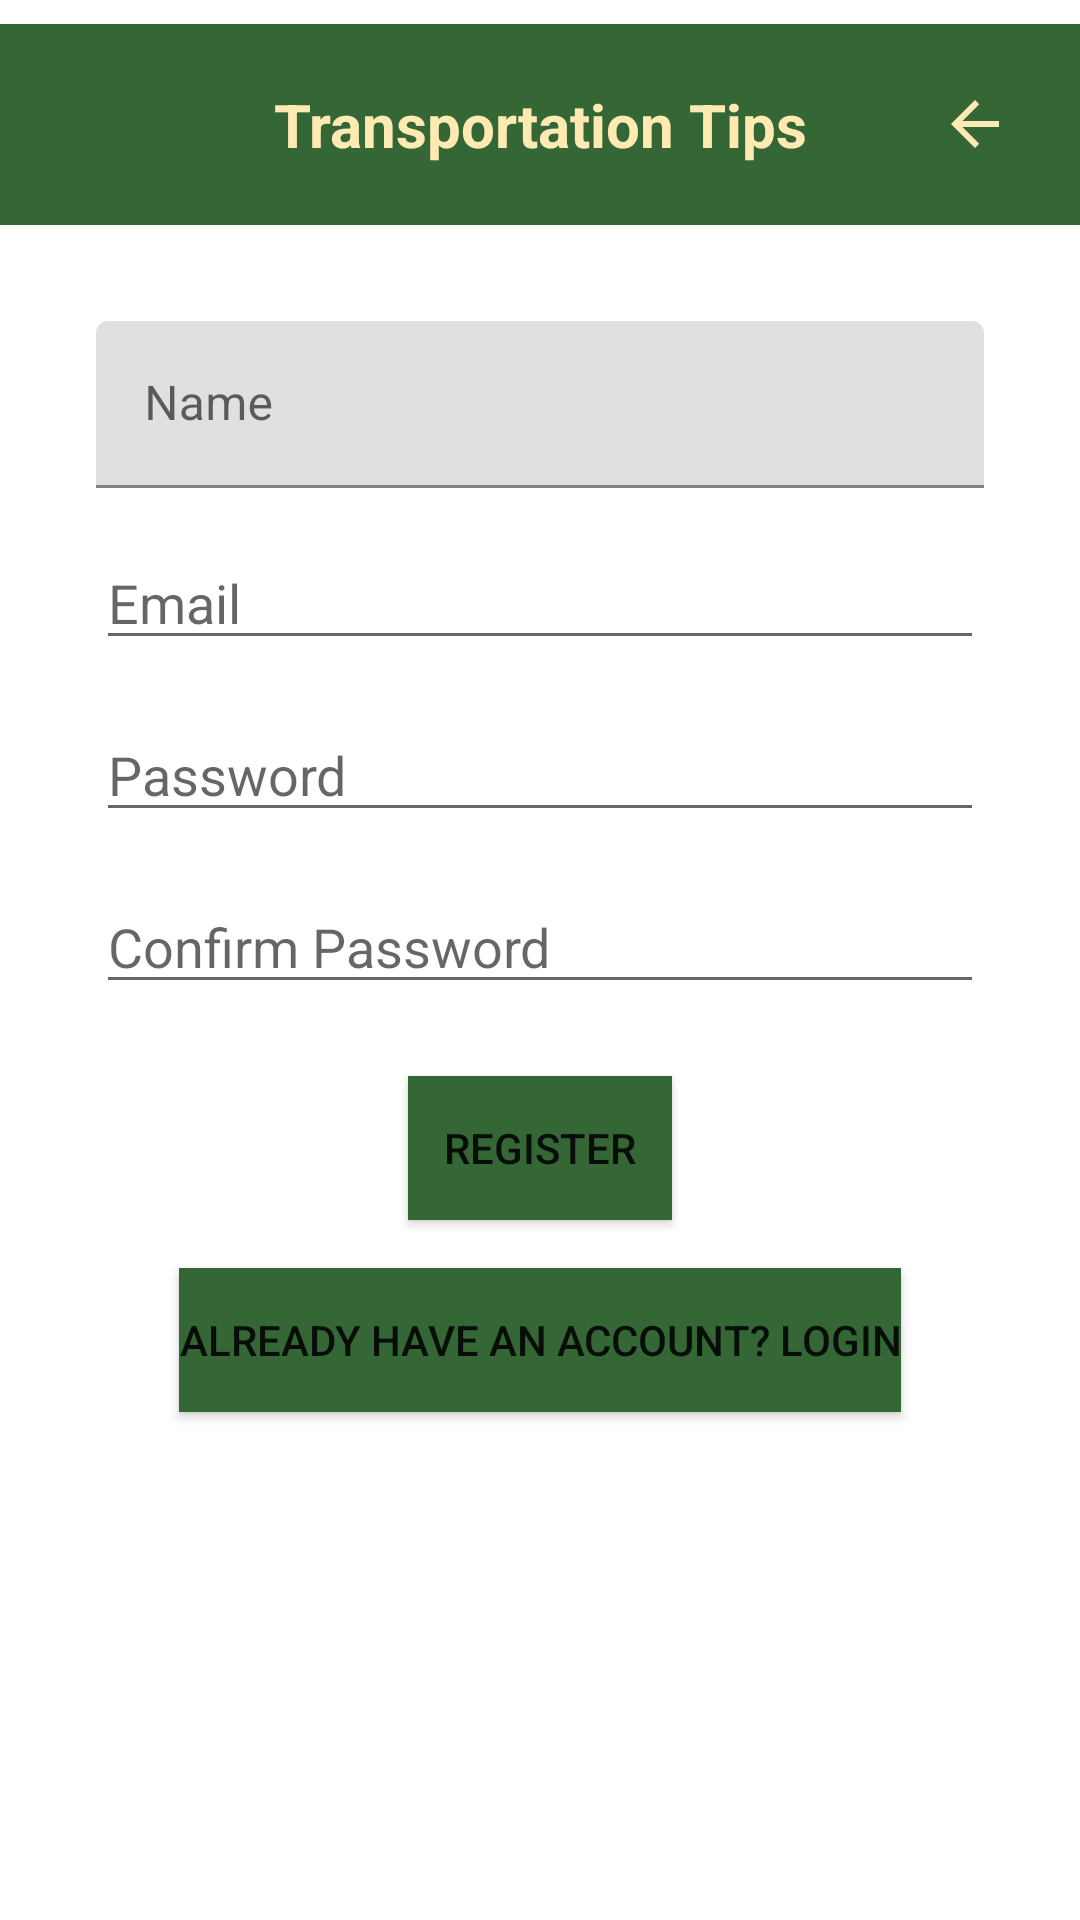

Screen size 1080px x 1920px. Icon name, then its center in pixels as (x,y):
back: (975,124)
